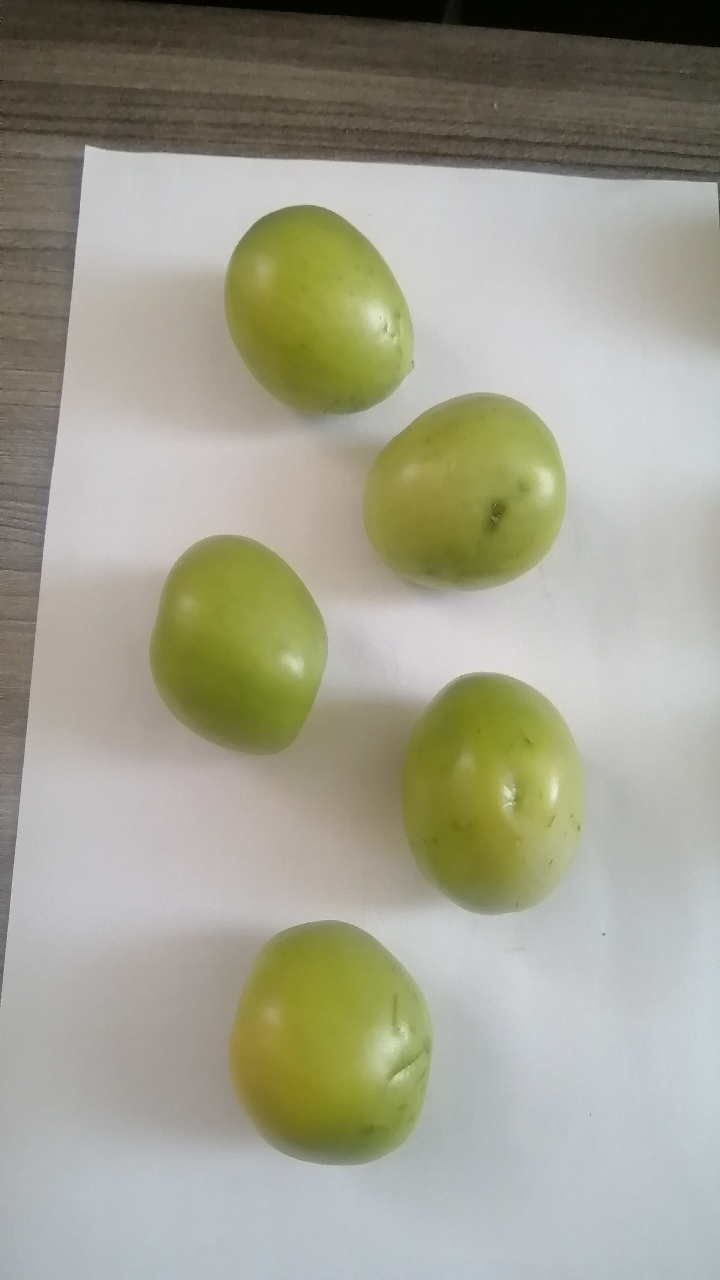tomateVerde: (312, 371, 595, 620), (369, 646, 612, 935), (228, 902, 455, 1192), (201, 182, 435, 442), (149, 515, 351, 788)
